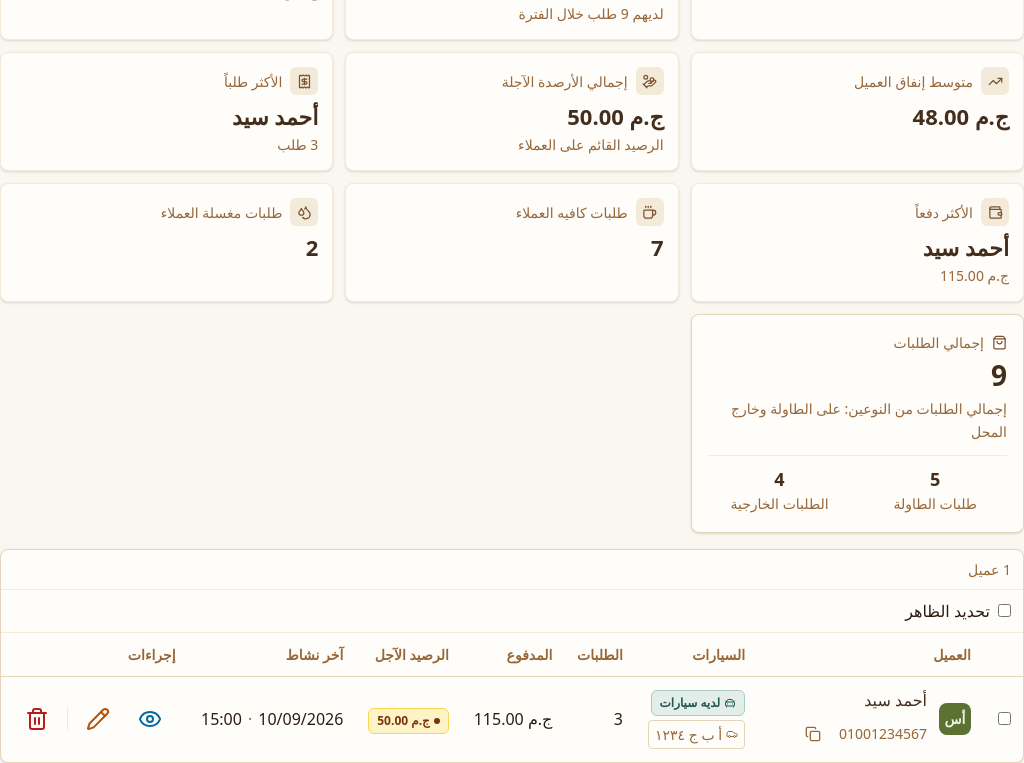
Test case: CustomersPage — permanent delete (ADMIN only) › cancels without sending anything
The image size is (1024, 763).
(page scrolled)
What coordinates should you click on to do the following:
click the button with test id "customer-row-delete"
I would click on:
 (37, 719)
Its box is x1=13 y1=695 x2=61 y2=743.
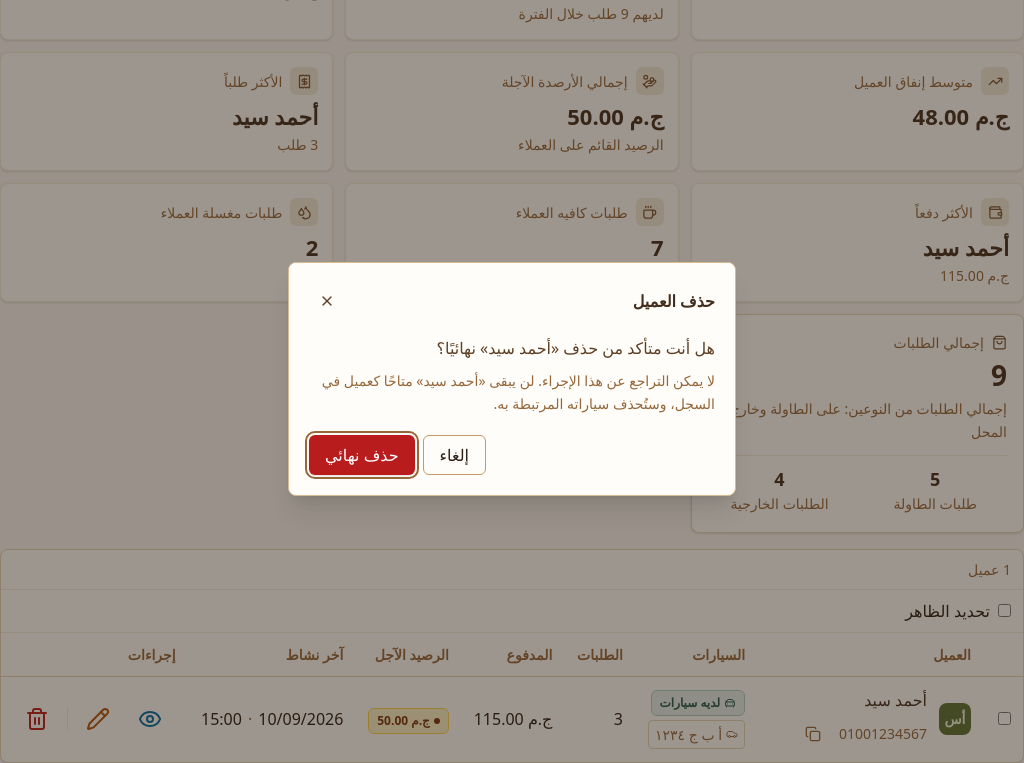
What coordinates should you click on to do the following:
click the button "إلغاء"
I would click on:
 (454, 455)
Its box is x1=422 y1=435 x2=486 y2=475.
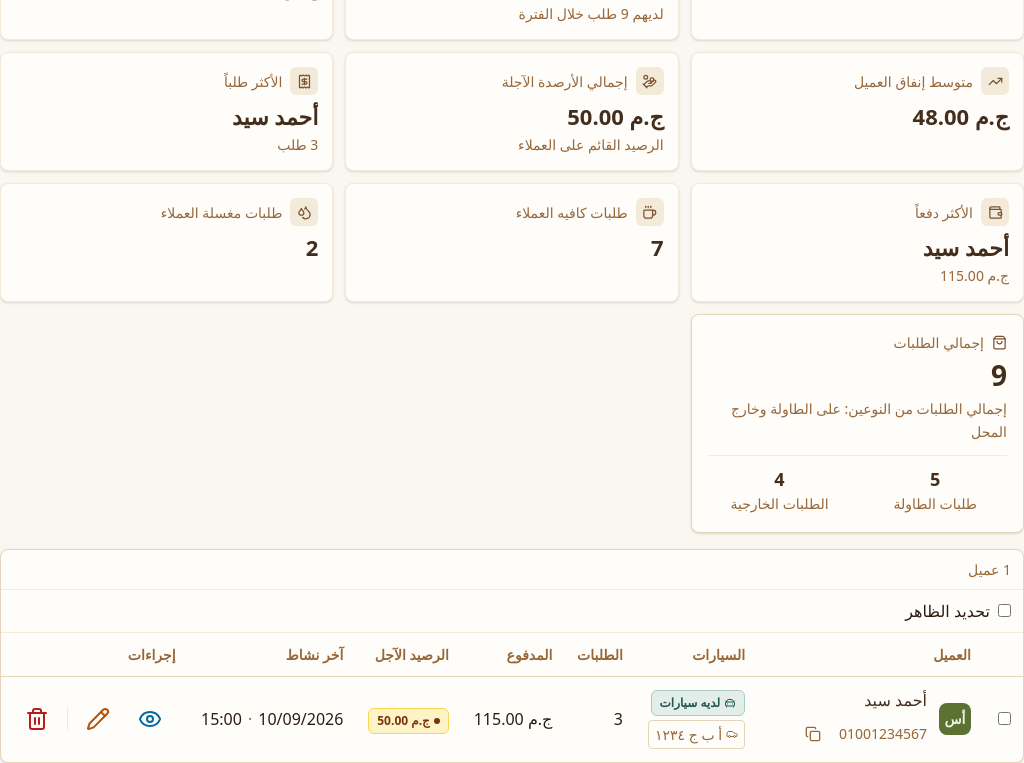
Expected: the dialog is gone
